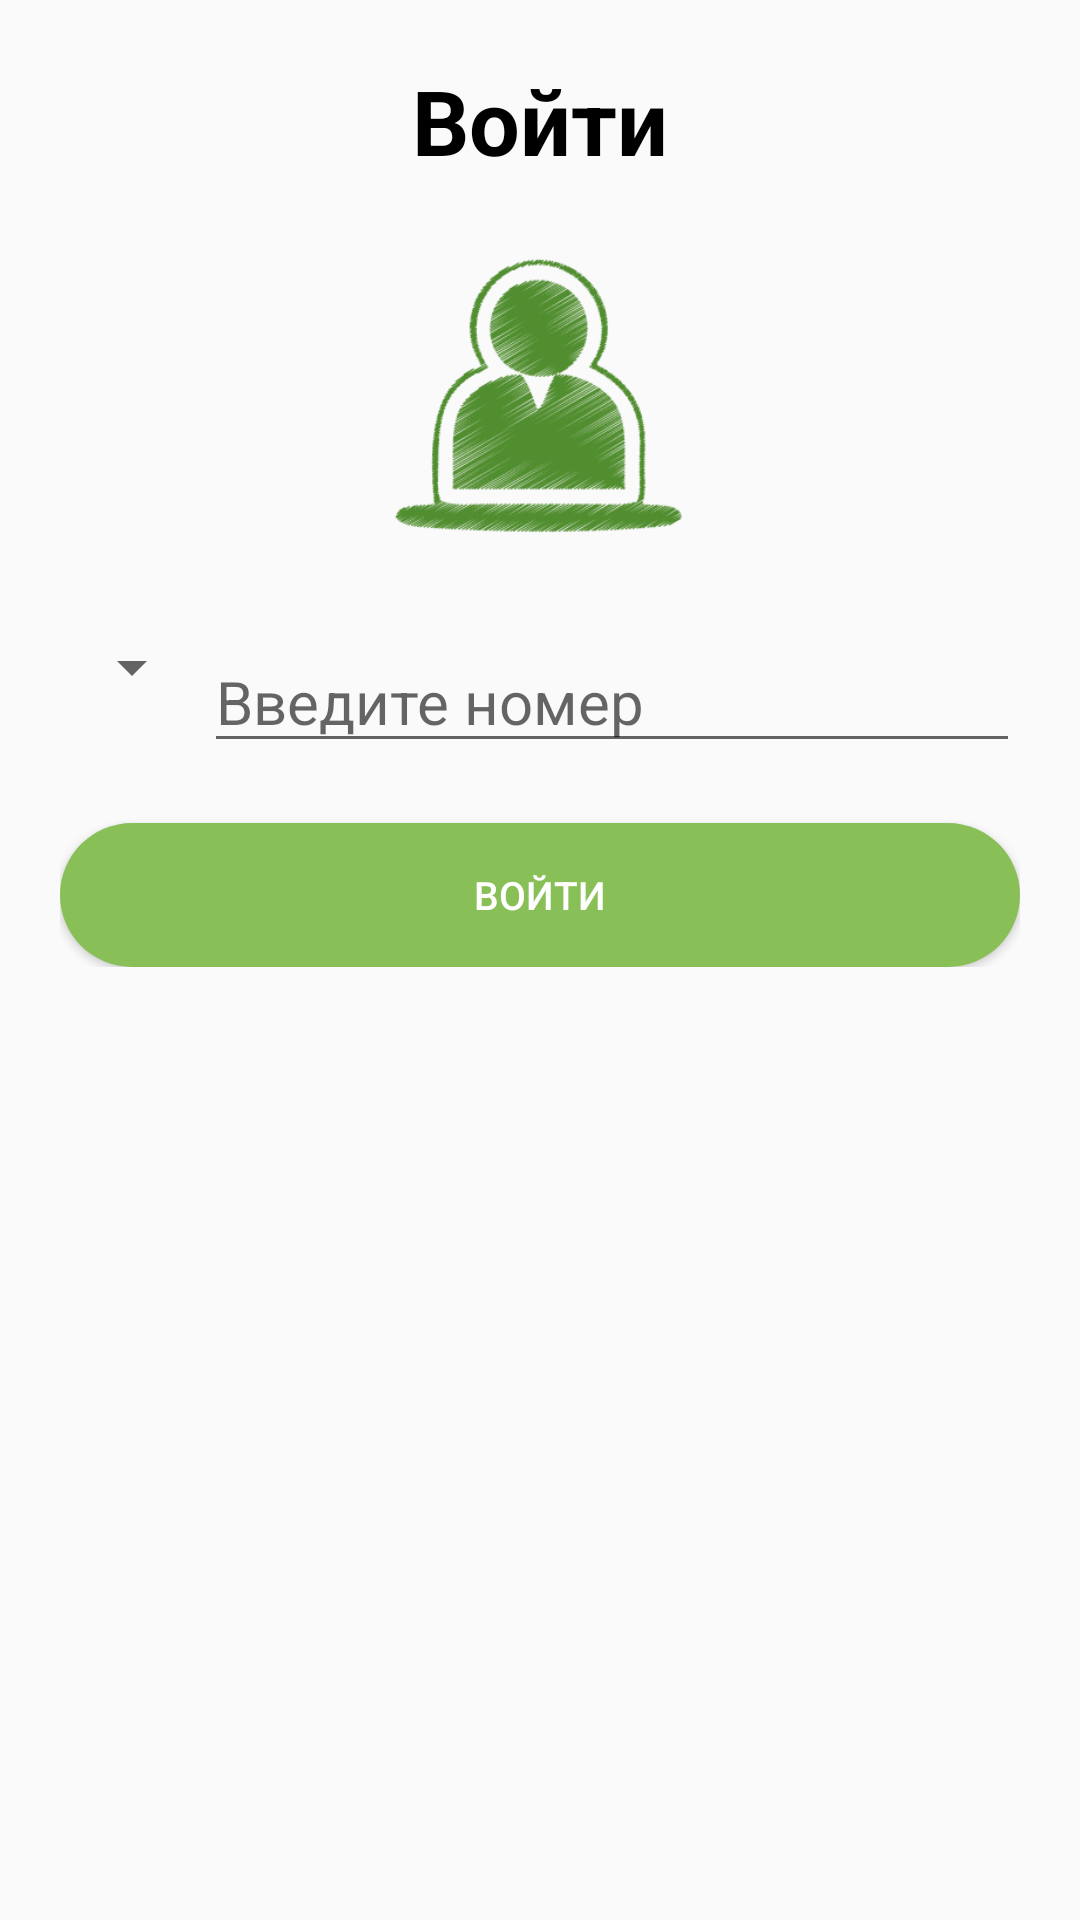

Point at icon controls on the screen. Image size 1080x1920, points as (x,y).
user: (538,395)
